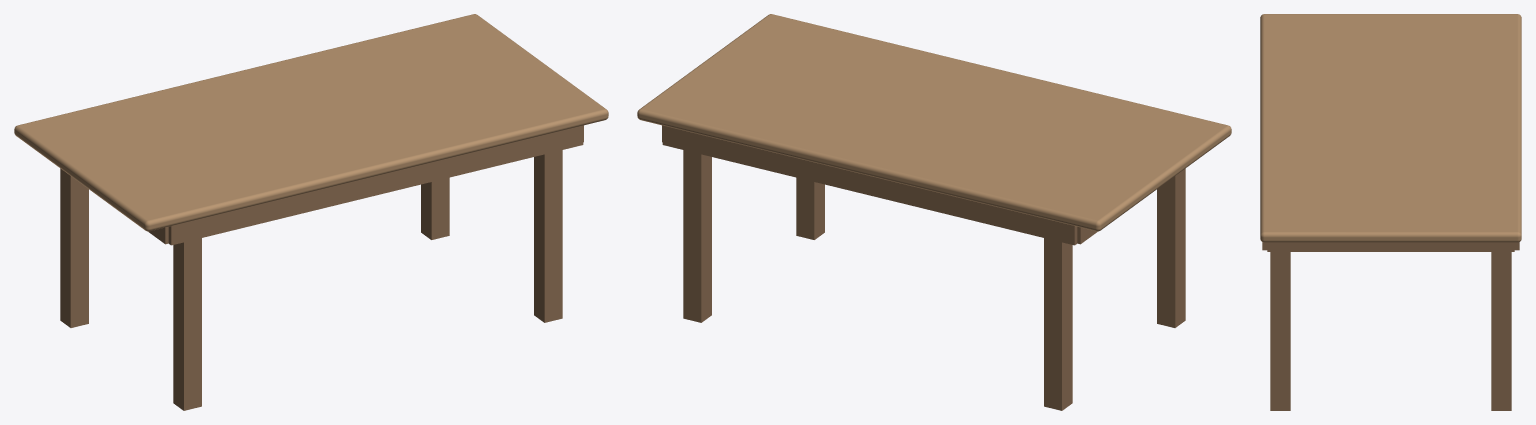
Rendered from dining_table.glb.
3 renders of one model, left to right at view 1: azimuth 30°, elevation 25°; view 2: azimuth 150°, elevation 25°; view 3: azimuth 270°, elevation 25°, orthographic. The views are drawn at different scales.
Visible parts, largest first — view 1: top, apron_front, leg_fr, leg_fl, leg_bl, leg_br; view 2: top, apron_back, leg_br, leg_bl, leg_fl, leg_fr; view 3: top, leg_fr, leg_br, apron_right.
Part boxes in pixels (x1,y1,x2,y2): top: (14, 14, 608, 231); apron_front: (168, 125, 583, 245); leg_fr: (534, 150, 562, 322); leg_fl: (173, 238, 201, 410); leg_bl: (60, 168, 88, 327); leg_br: (421, 177, 449, 239); top: (637, 14, 1231, 231); apron_back: (662, 125, 1077, 245); leg_br: (683, 150, 711, 322); leg_bl: (1044, 238, 1072, 410); leg_fl: (1157, 168, 1185, 327); leg_fr: (796, 177, 824, 239); top: (1260, 14, 1521, 242); leg_fr: (1270, 252, 1290, 410); leg_br: (1491, 252, 1511, 410); apron_right: (1267, 242, 1514, 251).
Bounding box in the file's own units: 1.8 × 0.75 × 0.9.
